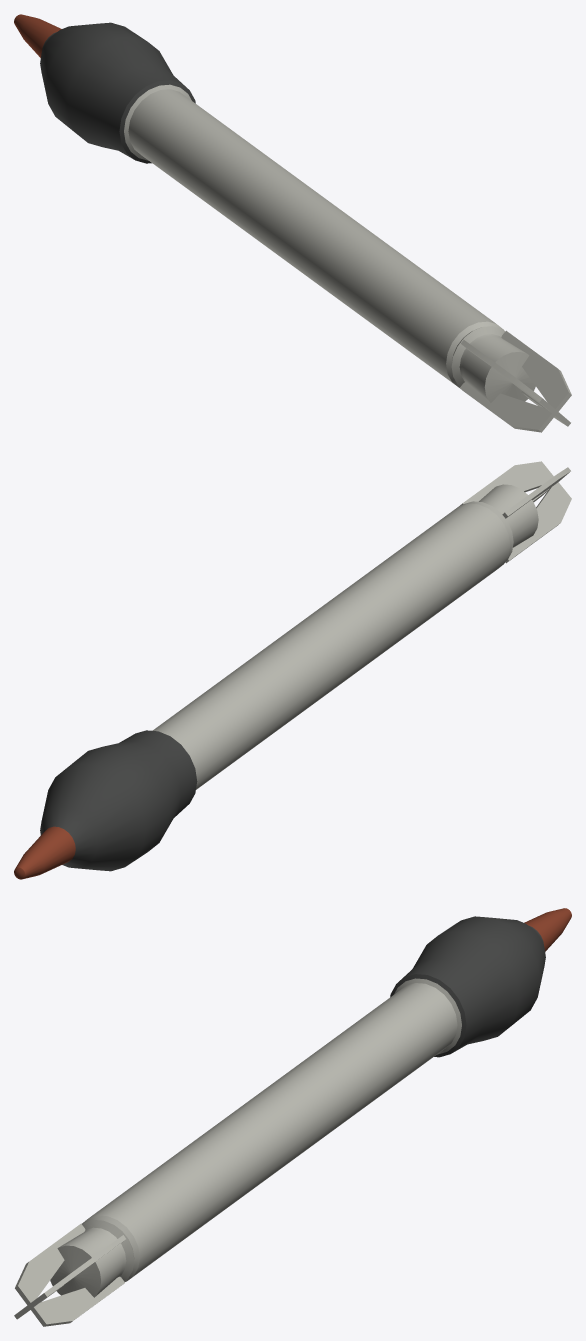
The picture shows the model from 3 angles, top to bottom: view 1: azimuth 30°, elevation 25°; view 2: azimuth 150°, elevation 25°; view 3: azimuth 330°, elevation 25°; orthographic projection.
Parts seen in each view (by area): view 1: s25; view 2: s25; view 3: s25.
Part boxes in pixels (x1,y1,x2,y2): s25: (14,14,571,432); s25: (14,461,571,879); s25: (14,908,571,1326).
Bounding box in the file's own units: 0.4262 × 0.4262 × 3.88.
